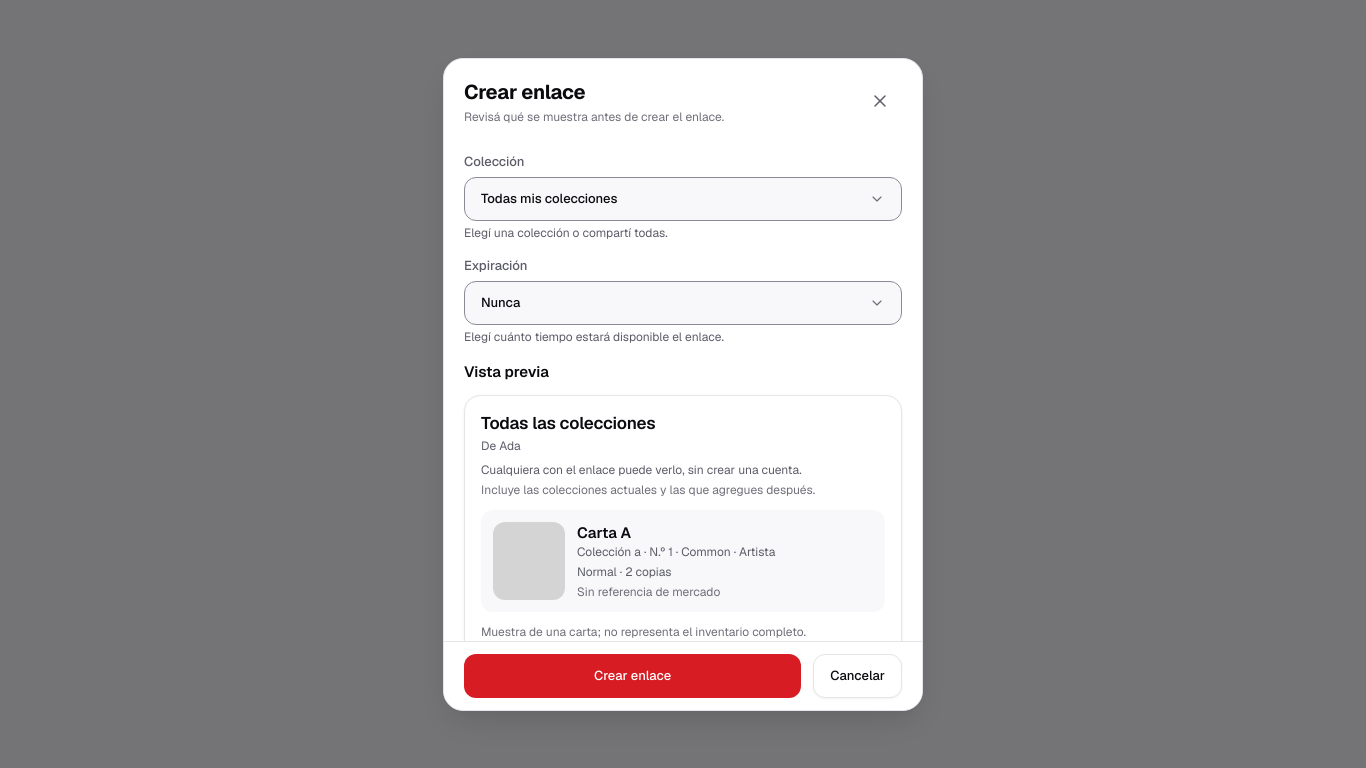
Test case: flujo privado de compartir › muestra cargada no reaparece durante carga/error de otro scope y se puede reintentar
expect the text "Carta A" is shown: met, box [577,523,631,542]
Click the dropdown named "Colección" at (549,198), box [464,177,902,221]
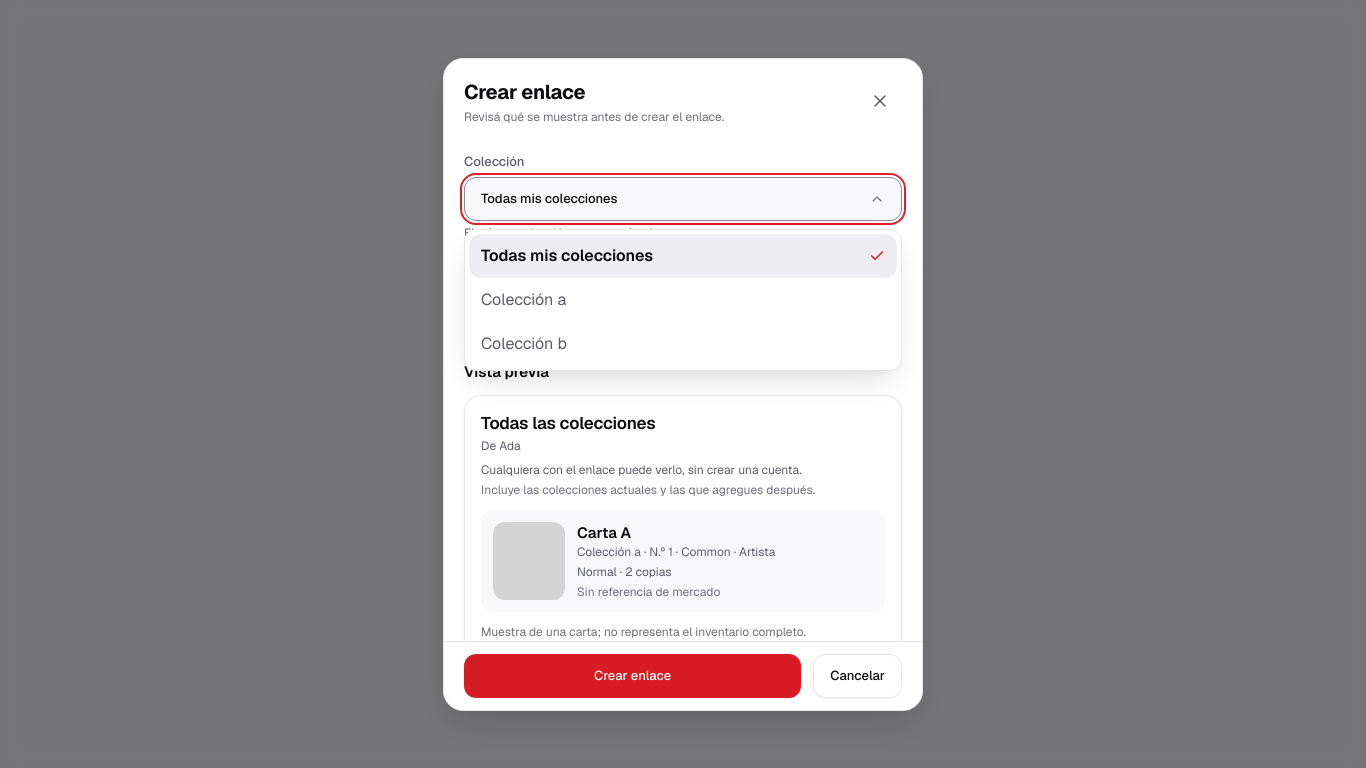
expect the option "Colección b" is shown: met
Click the option "Colección b" at (524,344), box [481,333,567,354]
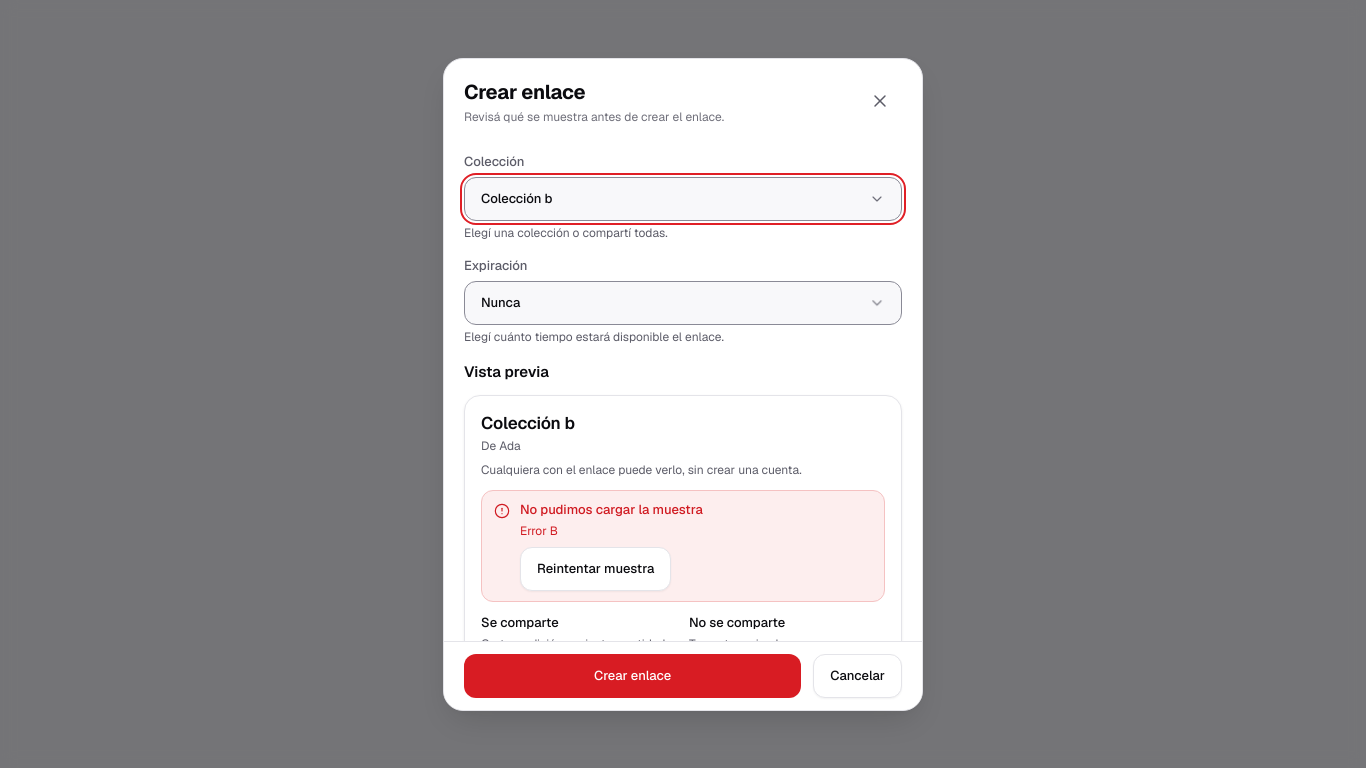
expect the button "Crear enlace" is enabled: met, box [464,653,801,697]
expect the text "Error B" is shown: met, box [520,523,558,539]
expect the text "Carta A" is gone: met
Click the button "Reintentar muestra" at (596,569), box [520,547,671,591]
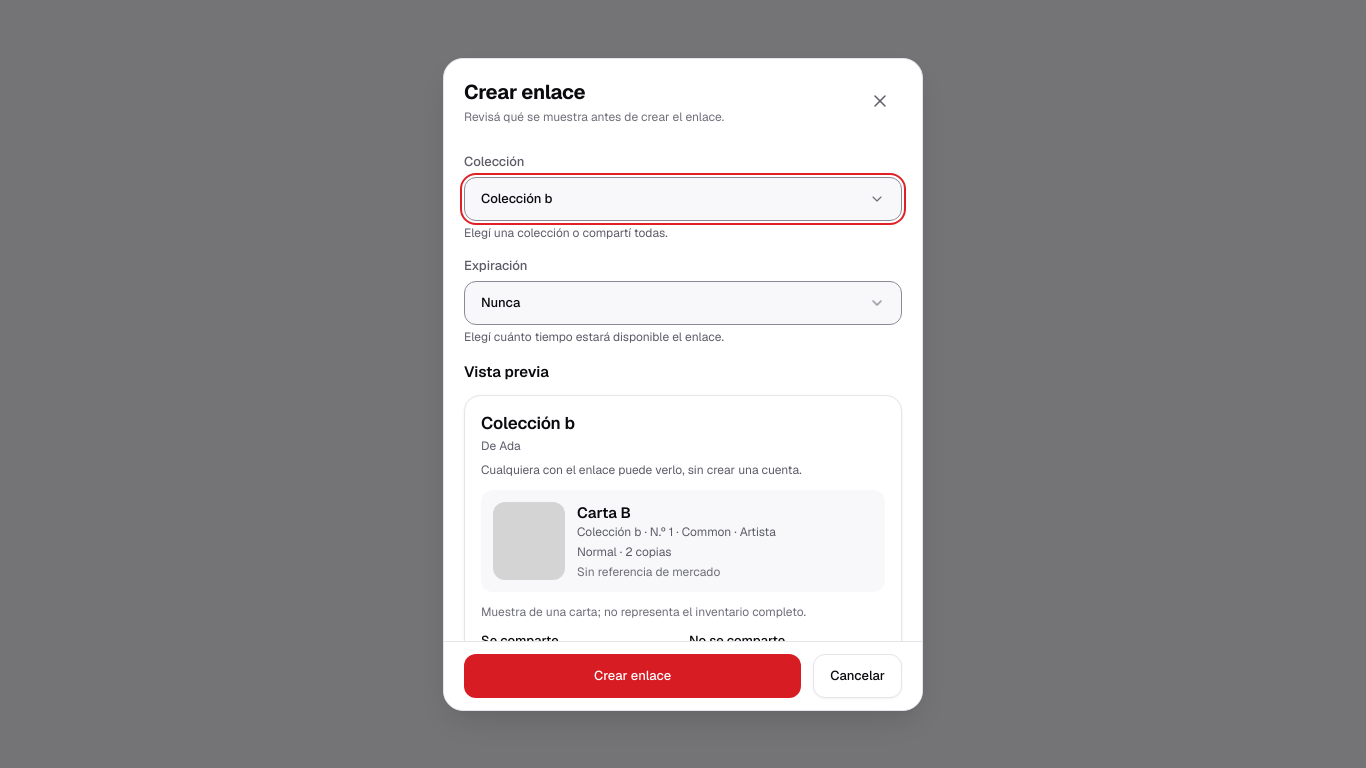
expect the text "Carta B" is shown: met, box [577,503,631,522]
